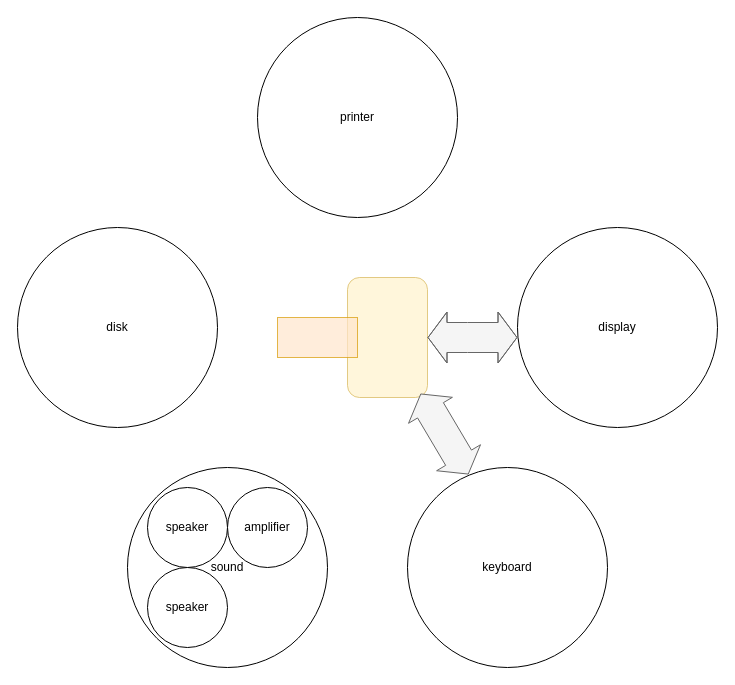
This 735x685 diagram has some shape labels left out. The centre of each missing label's shape, as x and y in pixels:
"CPU" goes at pixel 317 337.
"Memory" goes at pixel 387 337.
